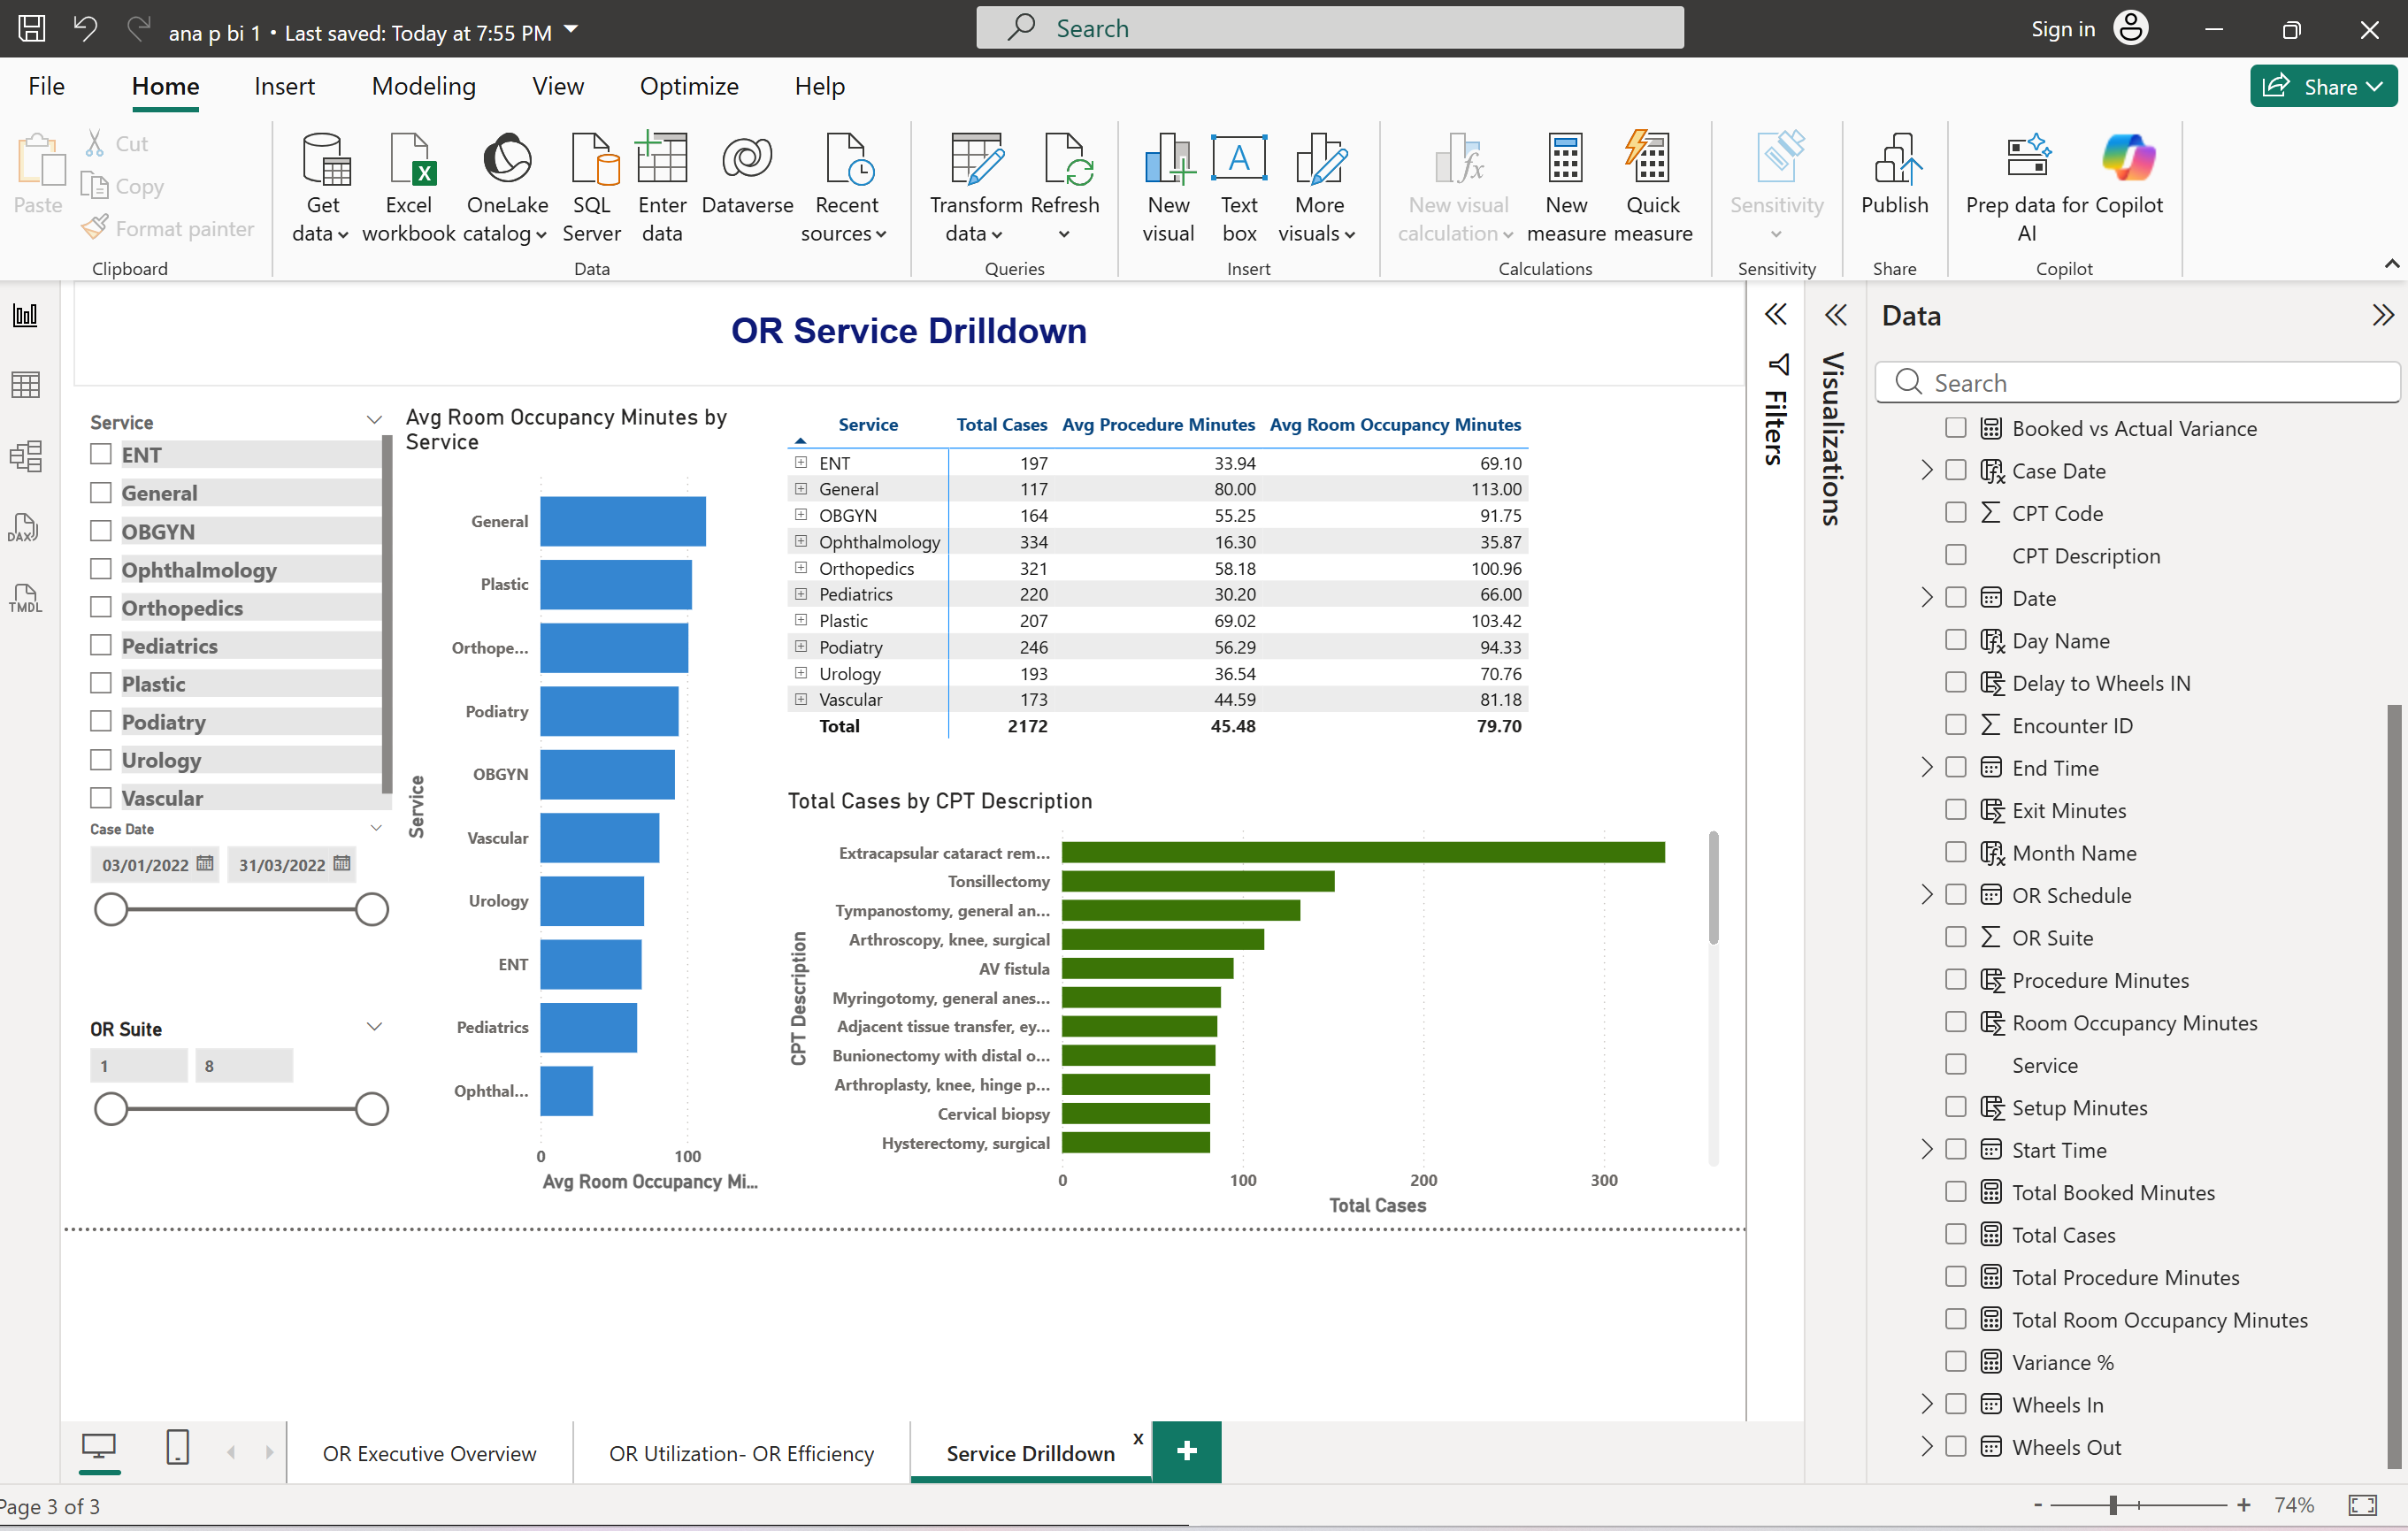

What the dashboard file says about the page in this screenshot:
{"tool":"powerbi","page":{"name":"Service Drilldown","canvas":[1280,720],"ordinal":2},"visuals":[{"type":"textbox","box":[9.5,0,1270.5,81],"z":0},{"type":"pivotTable","fields":{"Rows":["2022_Q1.Service","2022_Q1.CPT Description"],"Values":["2022_Q1.Total Cases","2022_Q1.Avg Procedure Minutes","2022_Q1.Avg Room Occupancy Minutes"]},"box":[547.9,93.7,732.1,292.2],"z":1},{"type":"clusteredBarChart","fields":{"Category":["2022_Q1.CPT Description"],"Y":["2022_Q1.Total Cases"]},"box":[547.9,385.9,717.8,330.3],"z":2},{"type":"clusteredBarChart","fields":{"Category":["2022_Q1.Service"],"Y":["2022_Q1.Avg Room Occupancy Minutes"]},"box":[257.3,93.7,290.6,603.5],"z":3},{"type":"slicer","fields":{"Values":["2022_Q1.Service"]},"box":[9.5,93.7,247.7,312.9],"z":4},{"type":"slicer","fields":{"Values":["2022_Q1.Case Date"]},"box":[9.5,406.6,247.7,147.7],"z":5},{"type":"slicer","fields":{"Values":["2022_Q1.OR Suite"]},"box":[9.5,555.8,247.7,163.6],"z":6}]}

Visuals, with their boxes on the page's 1280x720 design canvas (x1, y1, x2, y2). These are canvas units, not pixel positions in the 2408x1531 screenshot, which may show the page scaled, cropped or inside an application window:
textbox: (10,0,1280,81)
pivotTable - 2022_Q1.Service x 2022_Q1.CPT Description: (548,94,1280,386)
clusteredBarChart - 2022_Q1.CPT Description x 2022_Q1.Total Cases: (548,386,1266,716)
clusteredBarChart - 2022_Q1.Service x 2022_Q1.Avg Room Occupancy Minutes: (257,94,548,697)
slicer - 2022_Q1.Service: (10,94,257,407)
slicer - 2022_Q1.Case Date: (10,407,257,554)
slicer - 2022_Q1.OR Suite: (10,556,257,719)
